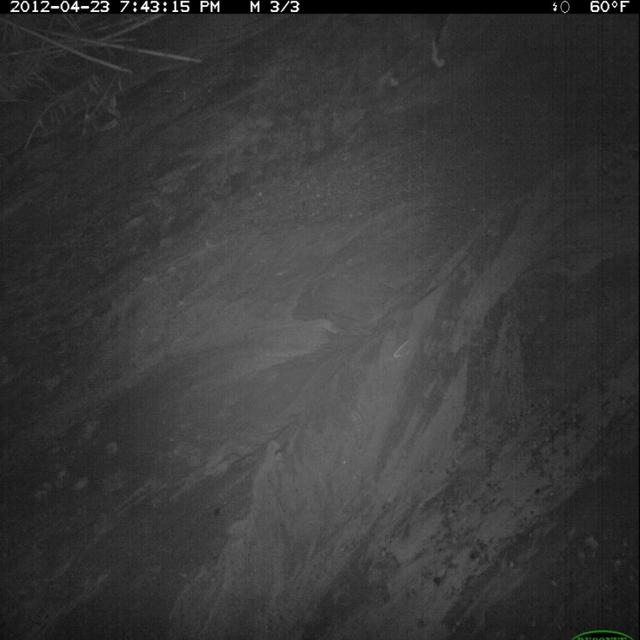dog: (373, 6, 462, 98)
